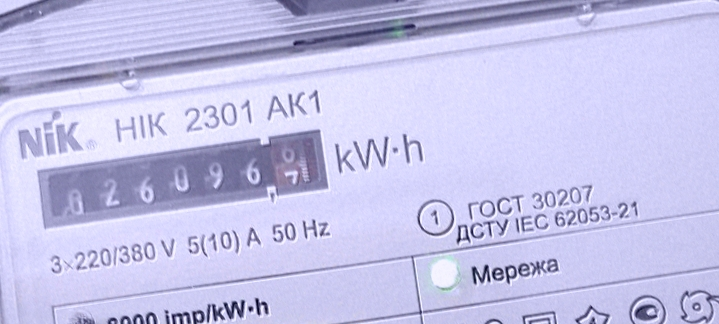0: (168, 158, 193, 195), (62, 181, 87, 216)
2: (98, 172, 123, 210)
6: (134, 169, 158, 206), (241, 151, 263, 186), (276, 135, 299, 165)
7: (281, 164, 302, 187)
9: (204, 156, 228, 190)
screen: (25, 117, 338, 241)
